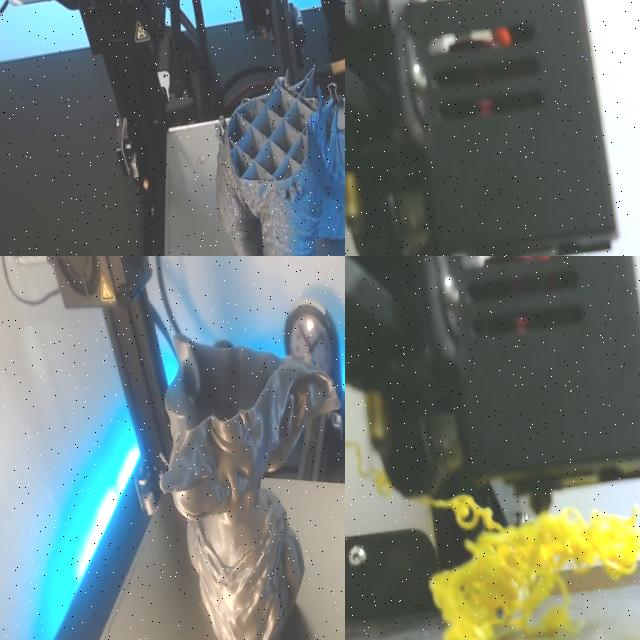spaghetti: (426, 495, 640, 640), (345, 437, 391, 494)
